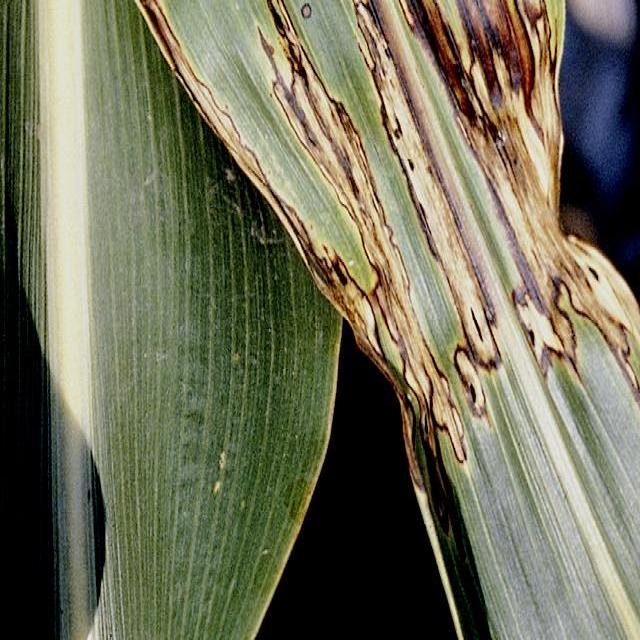blight: (343, 0, 520, 292)
